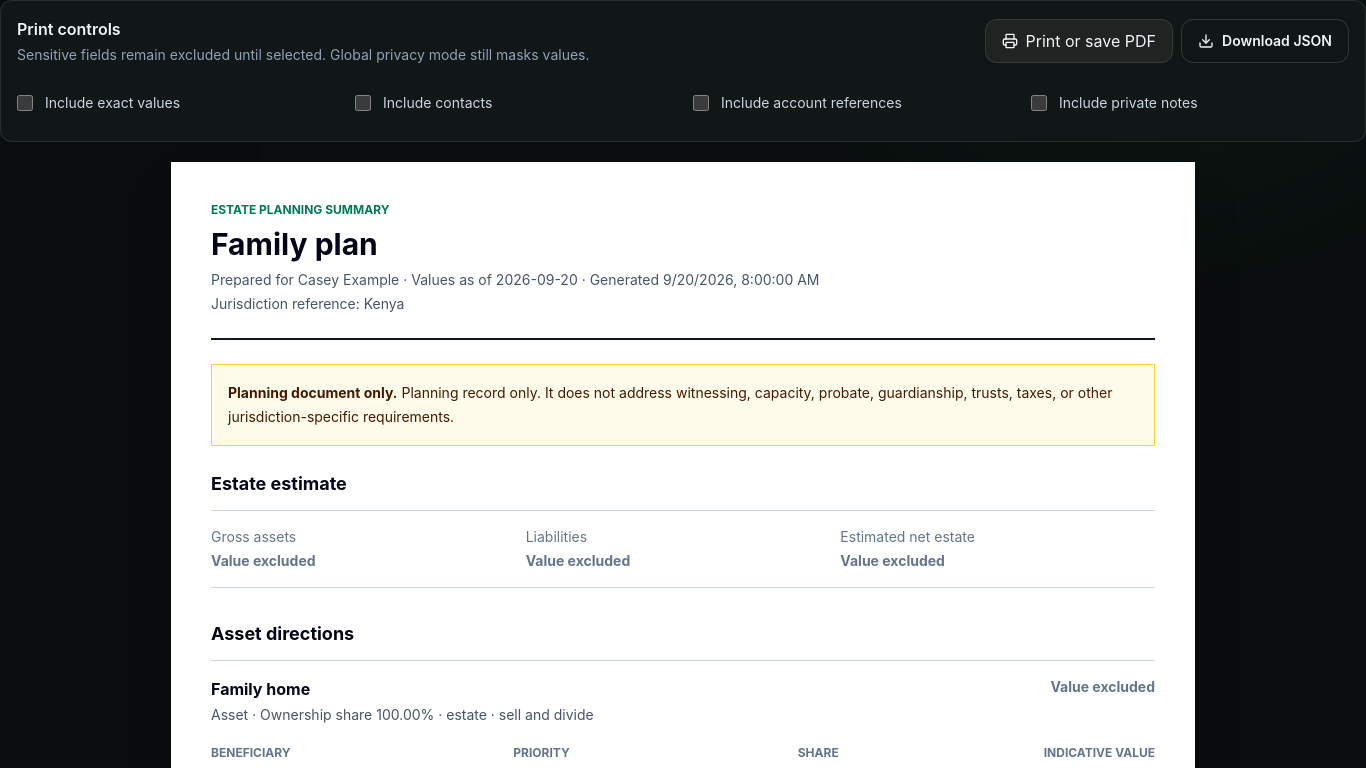
estate route pages › keeps snapshot values excluded until explicitly selected
Expected: the heading "Print controls" is shown, x1=17 y1=19 x2=121 y2=39
Expected: the text "Value excluded" below "Gross assets" is shown, x1=211 y1=552 x2=316 y2=569
Click the checkbox labelled "Include exact values": click(25, 103) x1=17 y1=95 x2=33 y2=111
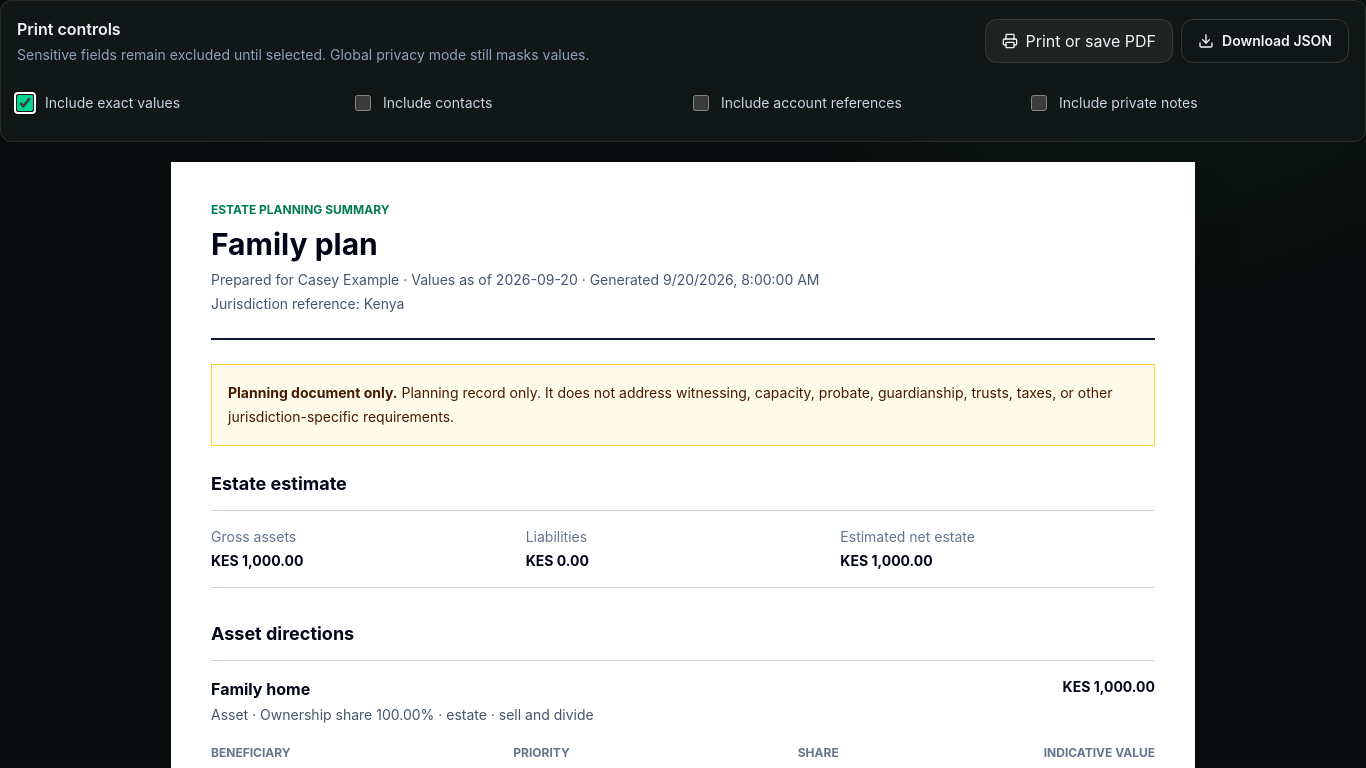
Now the text "KES 1,000.00" below "Gross assets" is shown, box x1=211 y1=552 x2=303 y2=569
